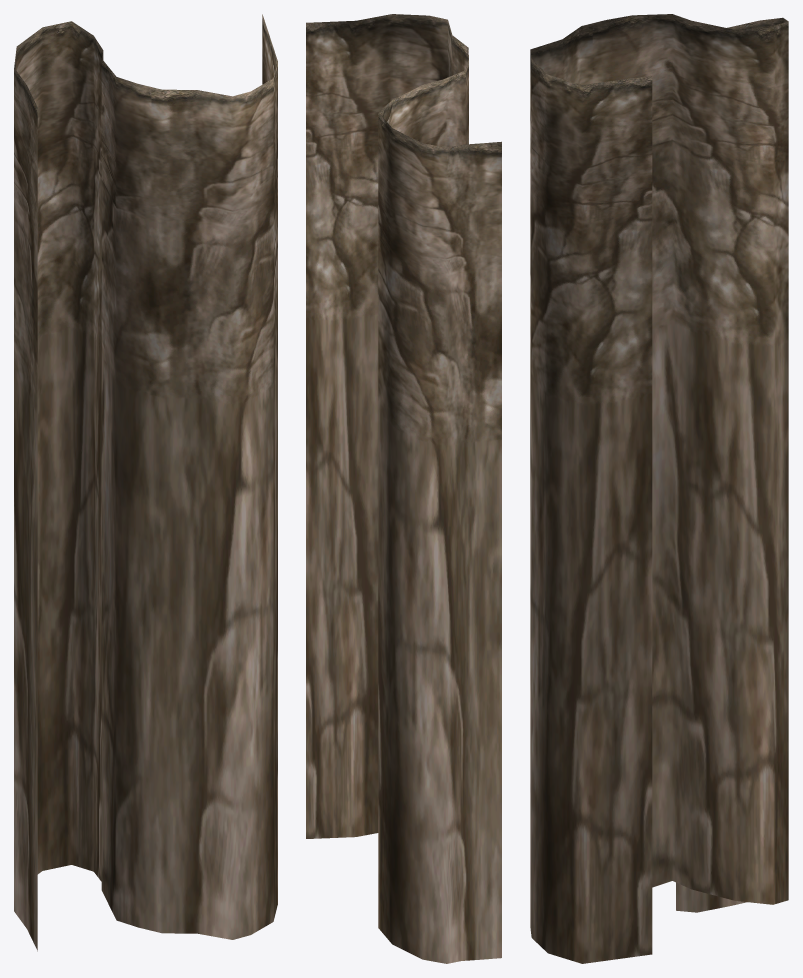
The model's file is OVERHILL_A_01_LINE74.fbx.
3 views of the same model, side by side, from view 1: azimuth 30°, elevation 25°; view 2: azimuth 150°, elevation 25°; view 3: azimuth 270°, elevation 25° (orthographic). The views are drawn at different scales.
Visible parts, largest first — view 1: OVERHILL_A_01_LINE74; view 2: OVERHILL_A_01_LINE74; view 3: OVERHILL_A_01_LINE74.
Part boxes in pixels (box(x1,y1,x2,y2)): OVERHILL_A_01_LINE74: box(14, 14, 277, 951); OVERHILL_A_01_LINE74: box(306, 14, 501, 963); OVERHILL_A_01_LINE74: box(530, 14, 788, 963).
Bounding box in the file's own units: 50530 × 204552 × 50667.
Materials: 2 (2 with a texture image).
